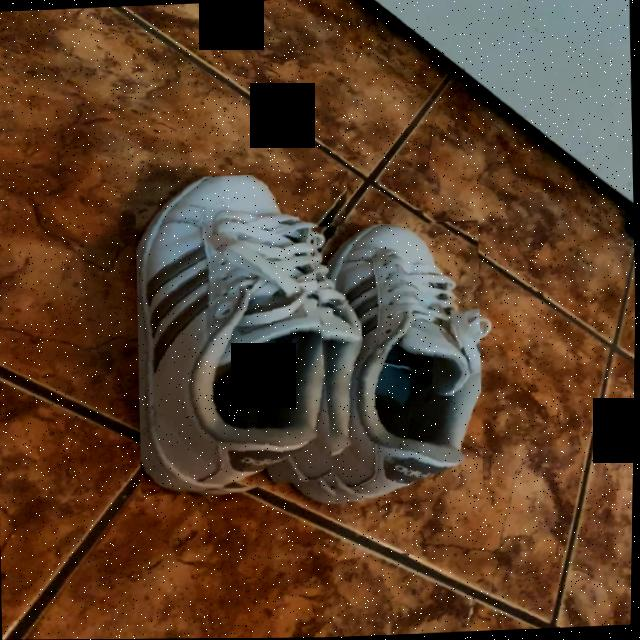shoe: (137, 175, 343, 493), (332, 224, 483, 499)
